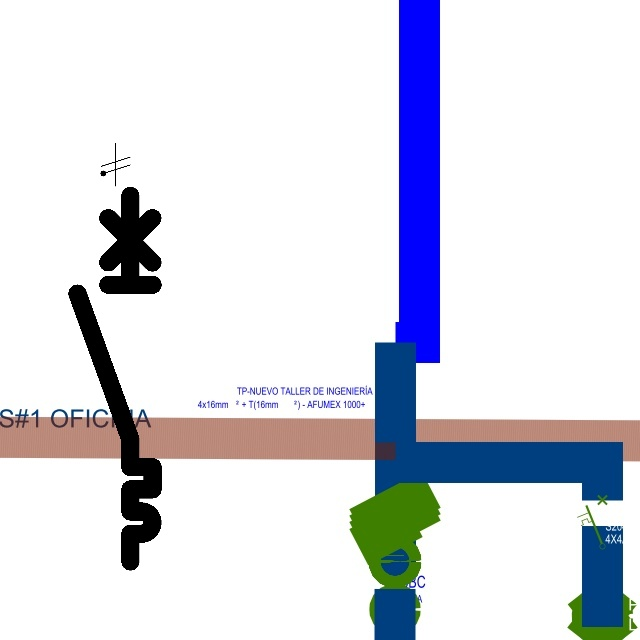interruptor_termomagnetico: (68, 186, 162, 571)
